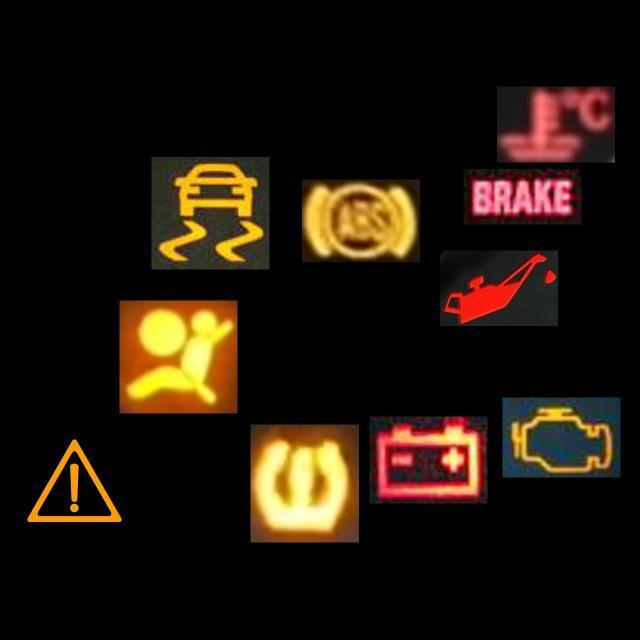Central Warning lamp: (15, 422, 134, 540)
Engine cooling system: (497, 86, 615, 162)
